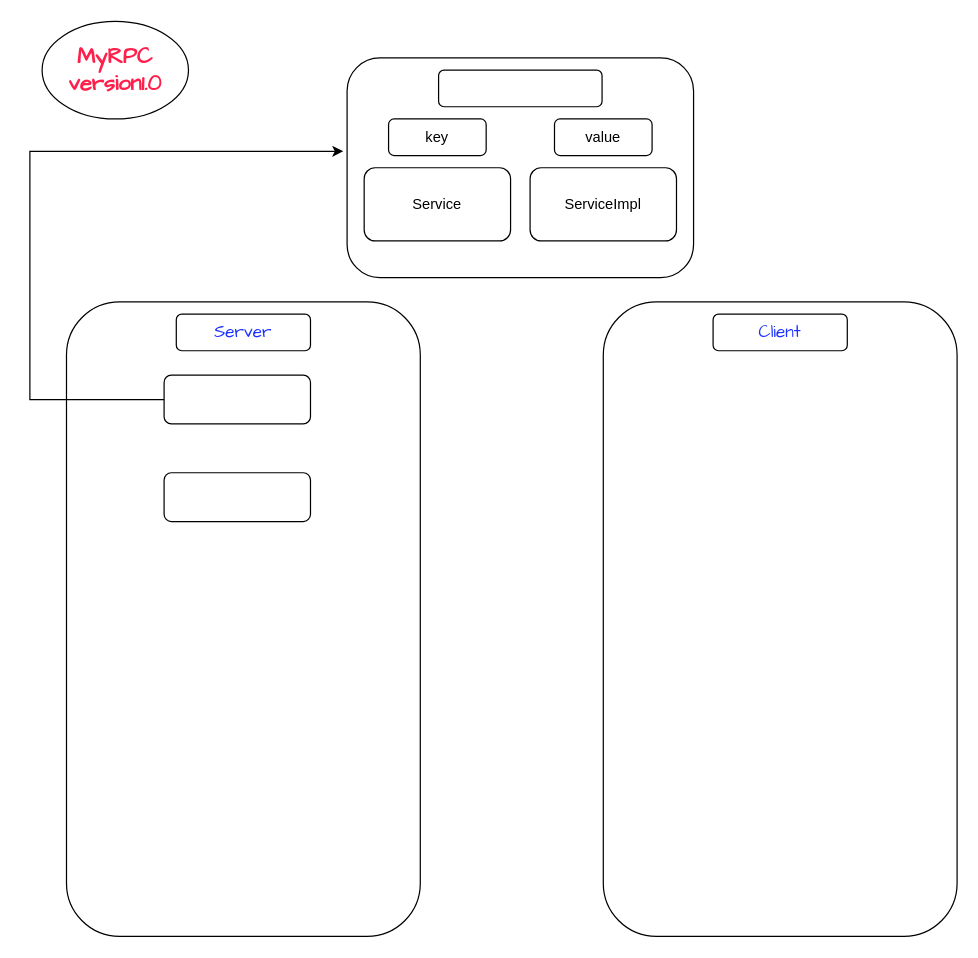
This 978x958 diagram has some shape labels left out. Each missing label, with the centre of its shape:
1. 注册服务(UserServiceImpl): the point at 236,399
2. 监听端口: the point at 236,497
Service(HashMap): the point at 519,88
